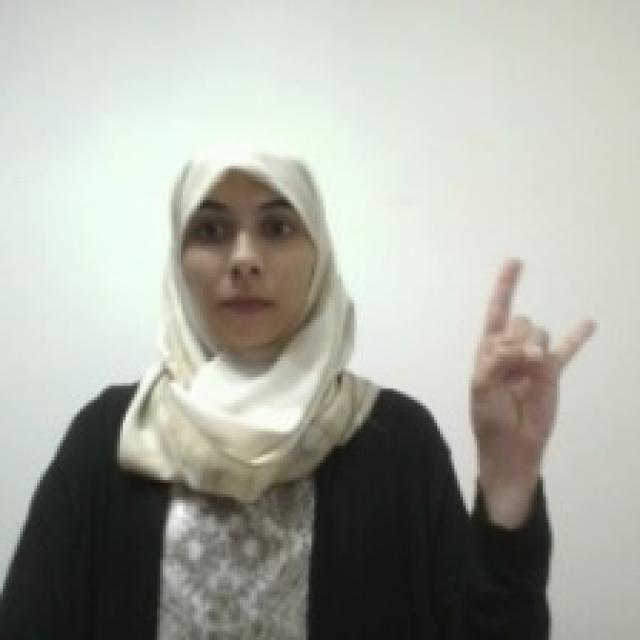No: (462, 248, 600, 443)
